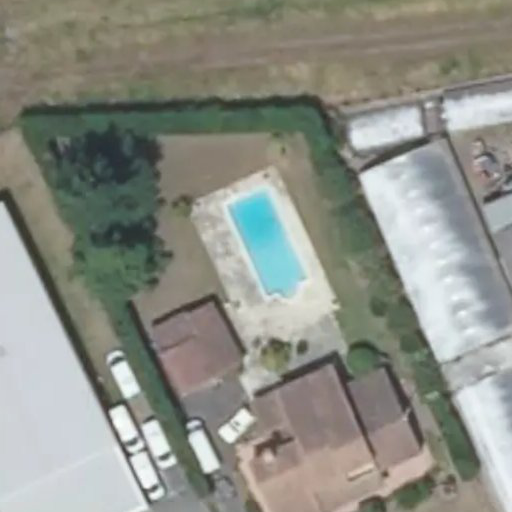pool: (208, 202, 311, 292)
